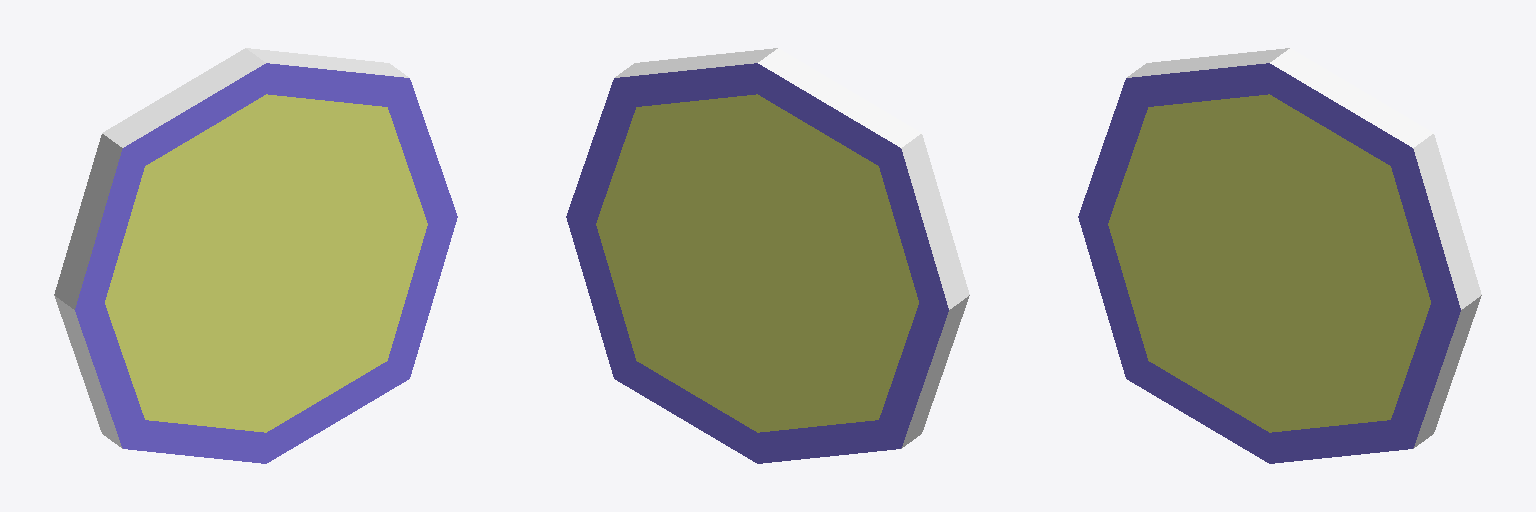
File: moneda.obj
The picture shows the model from 3 angles: view 1: azimuth 30°, elevation 25°; view 2: azimuth 150°, elevation 25°; view 3: azimuth 330°, elevation 25°; orthographic projection.
Visible parts, largest first — view 1: Cube1; view 2: Cube1; view 3: Cube1.
Boxes of the visible parts, x1=… form: Cube1: x1=54, y1=48, x2=457, y2=463; Cube1: x1=566, y1=48, x2=969, y2=463; Cube1: x1=1078, y1=48, x2=1481, y2=463.
Bounding box in the file's own units: 2 × 2 × 0.187.